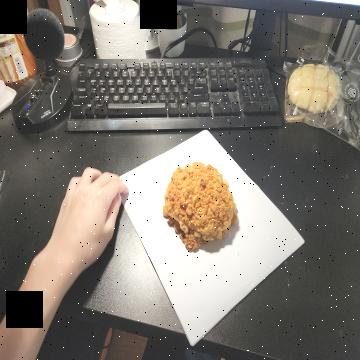soboru_bread: (164, 162, 236, 248)
